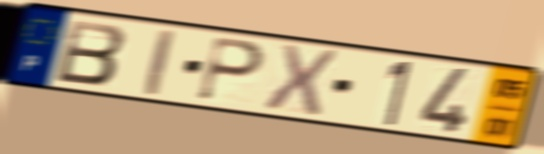1: (384, 59, 414, 129)
4: (415, 65, 473, 135)
B: (53, 17, 129, 88)
I: (142, 26, 178, 99)
P: (193, 34, 268, 105)
X: (260, 41, 341, 118)
